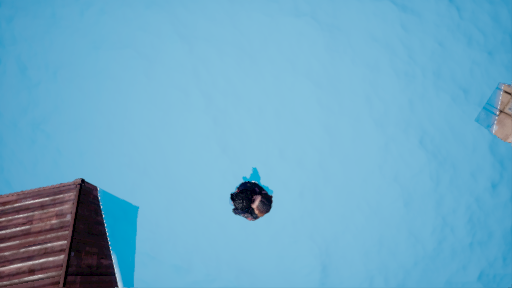person: (228, 168, 284, 227)
